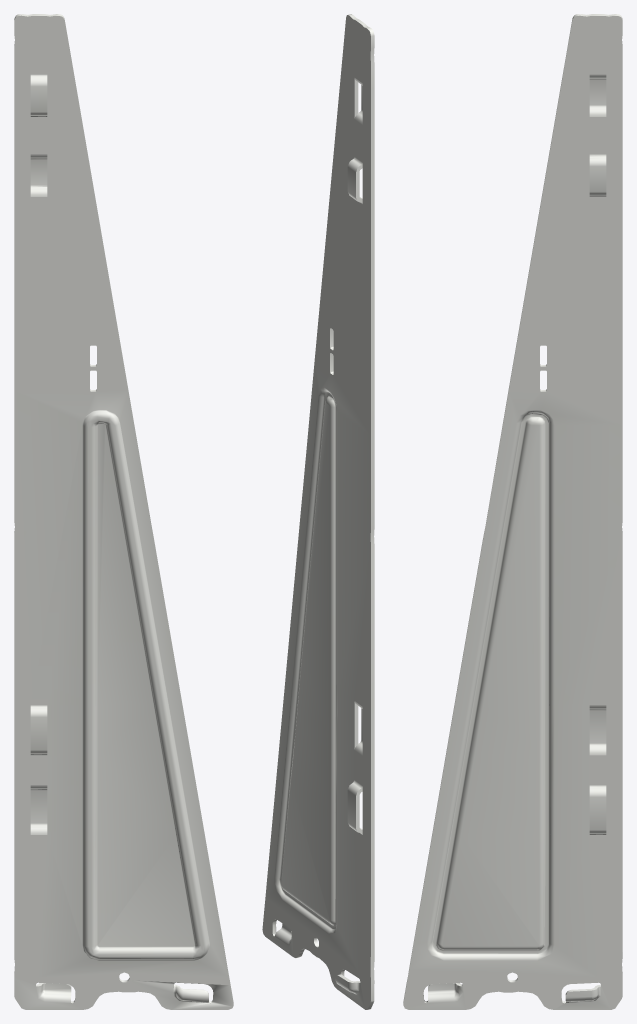
Rendered from boaxel_wspornik_60448733.glb.
The picture shows the model from 3 angles, left to right: view 1: azimuth 90°, elevation 25°; view 2: azimuth 210°, elevation 25°; view 3: azimuth 270°, elevation 25°; orthographic projection.
Visible parts, largest first — view 1: boaxel_wspornik_60448733; view 2: boaxel_wspornik_60448733; view 3: boaxel_wspornik_60448733.
Boxes of the visible parts, x1,y1,x2,y2 form: boaxel_wspornik_60448733: [14, 14, 233, 1009]; boaxel_wspornik_60448733: [262, 14, 374, 1009]; boaxel_wspornik_60448733: [403, 14, 622, 1009].
Bounding box in the file's own units: 0.00791 × 0.3981 × 0.0797.
Materials: 1 (1 with a texture image).
